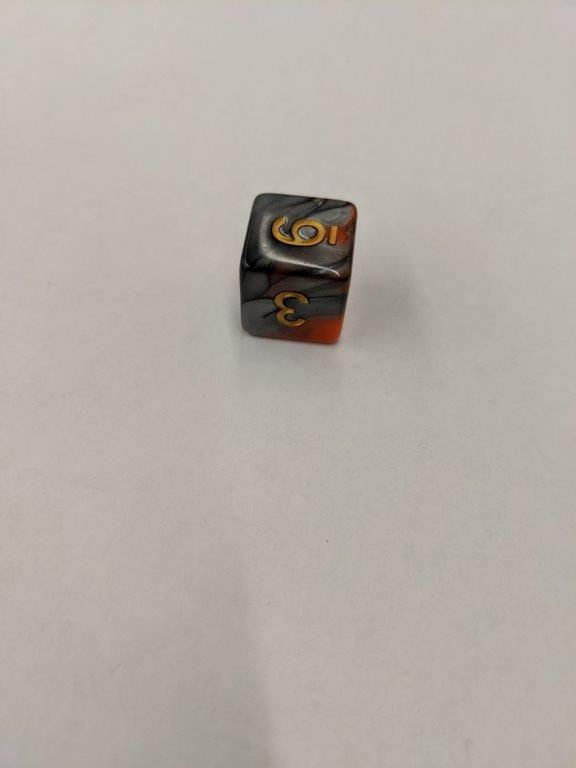d6-6: (238, 190, 359, 349)
